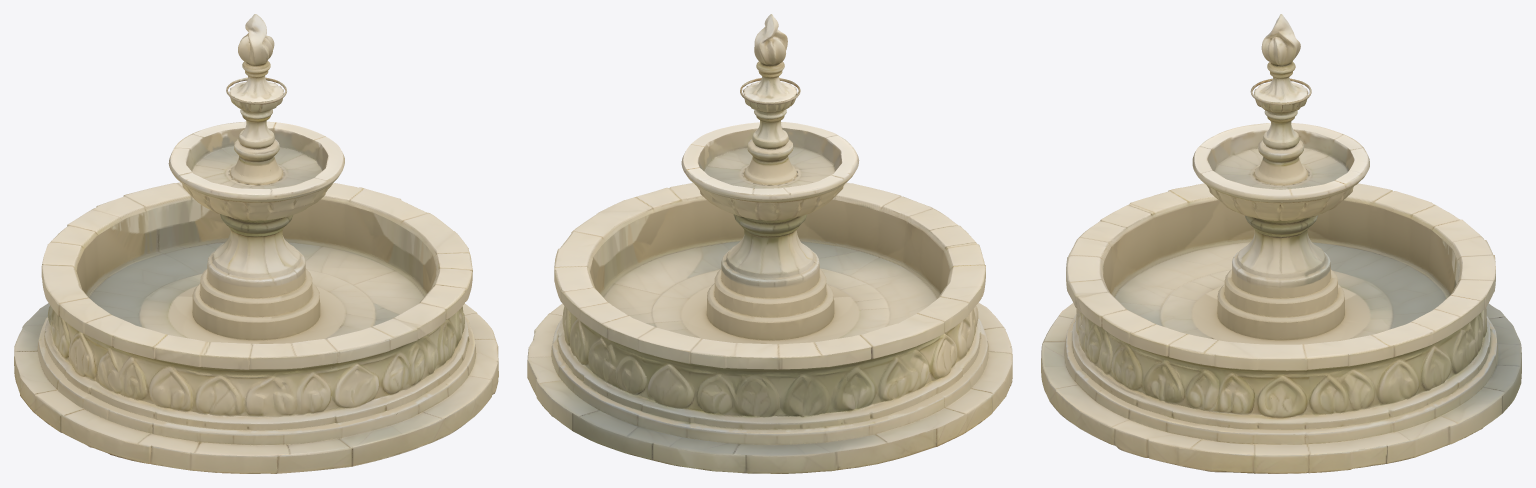
Rendered from fountain.glb.
3 renders of one model, left to right at view 1: azimuth 30°, elevation 25°; view 2: azimuth 150°, elevation 25°; view 3: azimuth 270°, elevation 25°, orthographic.
Visible parts, largest first — view 1: geometry_0; view 2: geometry_0; view 3: geometry_0.
Boxes of the visible parts, x1,y1,x2,y2 form: geometry_0: [14, 14, 498, 473]; geometry_0: [527, 14, 1012, 473]; geometry_0: [1041, 14, 1521, 473].
Bounding box in the file's own units: 1.9 × 1.56 × 1.9.
1 material, 1 textured.
